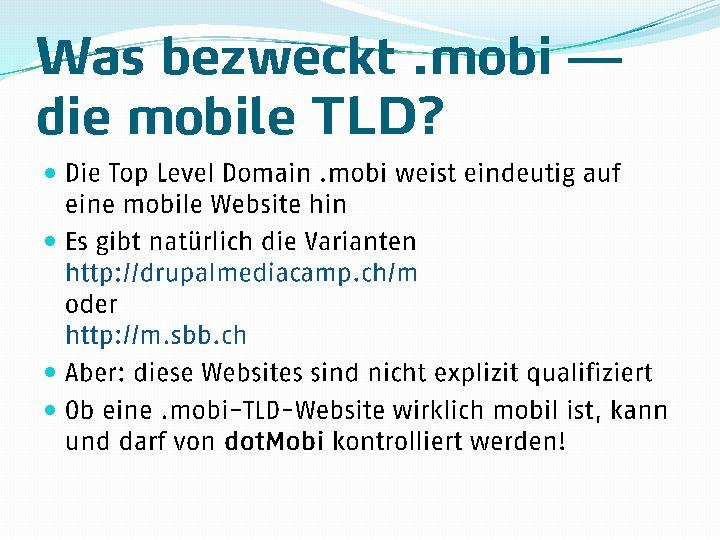paragraph: (44, 150, 699, 474)
title: (30, 22, 647, 145)
